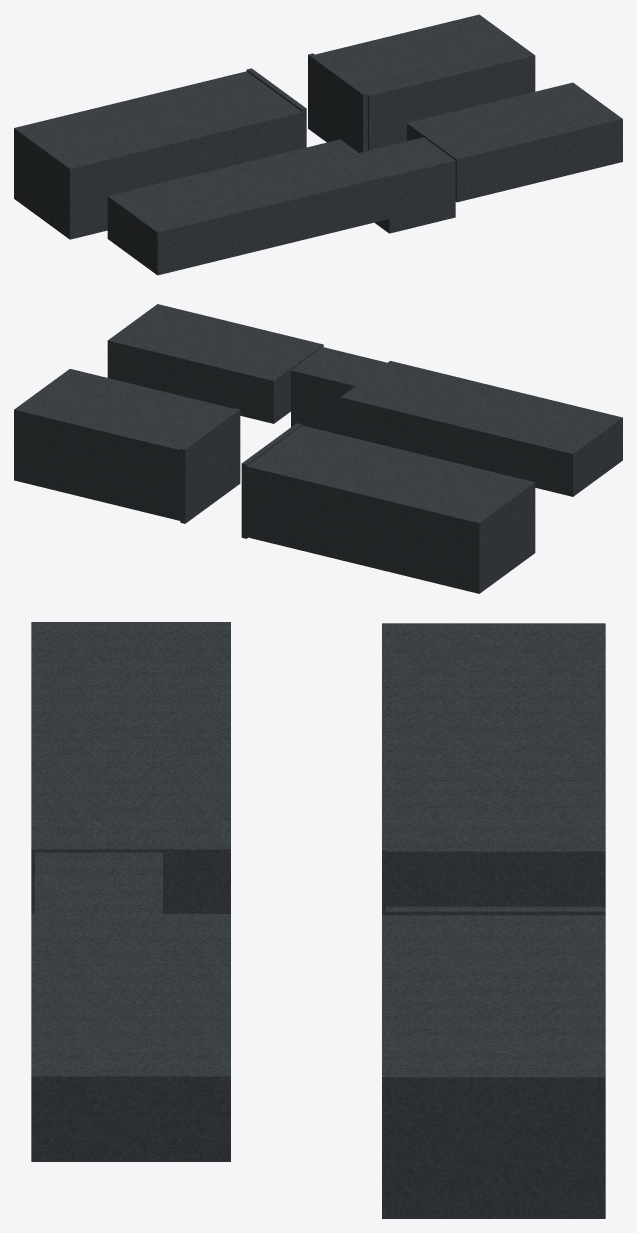
The model's file is PROJECT_Z_Kitchen_Cabinet_Collision_Helpers.glb.
3 renders of one model, top to bottom at view 1: azimuth 30°, elevation 25°; view 2: azimuth 150°, elevation 25°; view 3: azimuth 270°, elevation 25°, orthographic. The views are drawn at different scales.
Visible parts, largest first — view 1: UCX_COLLISION_Base_StorageL, UCX_COLLISION_Base_StorageR, UCX_COLLISION_Upper_StorageR, UCX_COLLISION_Upper_Sink, UCX_COLLISION_Base_Sink, UCX_COLLISION_Upper_StorageL, UCX_COLLISION_Upper_Drawers, UCX_COLLISION_Upper_End, UCX_COLLISION_Base_Drawers, UCX_COLLISION_Base_End, UCX_COLLISION_Extractor, UCX_COLLISION_StoveCheek_R (+1 smaller); view 2: UCX_COLLISION_Base_Sink, UCX_COLLISION_Base_StorageR, UCX_COLLISION_Base_StorageL, UCX_COLLISION_Upper_StorageR, UCX_COLLISION_Upper_Sink, UCX_COLLISION_Base_Drawers, UCX_COLLISION_Base_End, UCX_COLLISION_Upper_StorageL, UCX_COLLISION_Upper_End, UCX_COLLISION_Upper_Drawers, UCX_COLLISION_StoveCheek_R, UCX_COLLISION_Extractor (+1 smaller); view 3: UCX_COLLISION_Base_End, UCX_COLLISION_Upper_End, UCX_COLLISION_Base_Sink, UCX_COLLISION_Base_StorageR, UCX_COLLISION_Upper_Sink, UCX_COLLISION_Upper_StorageR, UCX_COLLISION_Upper_Drawers, UCX_COLLISION_Base_StorageL, UCX_COLLISION_Base_Drawers, UCX_COLLISION_StoveCheek_L, UCX_COLLISION_Upper_StorageL, UCX_COLLISION_Extractor (+1 smaller).
Part boxes in pixels (x1=…): UCX_COLLISION_Base_StorageL: x1=14, y1=112, x2=136, y2=239; UCX_COLLISION_Base_StorageR: x1=315, y1=30, x2=468, y2=150; UCX_COLLISION_Upper_StorageR: x1=407, y1=99, x2=556, y2=202; UCX_COLLISION_Upper_Sink: x1=174, y1=155, x2=323, y2=259; UCX_COLLISION_Base_Sink: x1=80, y1=87, x2=236, y2=188; UCX_COLLISION_Upper_StorageL: x1=107, y1=180, x2=223, y2=275; UCX_COLLISION_Upper_Drawers: x1=274, y1=139, x2=390, y2=234; UCX_COLLISION_Upper_End: x1=507, y1=82, x2=622, y2=177; UCX_COLLISION_Base_Drawers: x1=180, y1=71, x2=302, y2=164; UCX_COLLISION_Base_End: x1=413, y1=14, x2=535, y2=107; UCX_COLLISION_Extractor: x1=359, y1=137, x2=455, y2=233; UCX_COLLISION_StoveCheek_R: x1=308, y1=53, x2=367, y2=152; UCX_COLLISION_Base_Sink: x1=313, y1=441, x2=468, y2=577; UCX_COLLISION_Base_StorageR: x1=80, y1=385, x2=233, y2=520; UCX_COLLISION_Base_StorageL: x1=413, y1=466, x2=535, y2=593; UCX_COLLISION_Upper_StorageR: x1=174, y1=320, x2=323, y2=423; UCX_COLLISION_Upper_Sink: x1=407, y1=377, x2=555, y2=474; UCX_COLLISION_Base_Drawers: x1=246, y1=425, x2=368, y2=553; UCX_COLLISION_Base_End: x1=14, y1=369, x2=135, y2=496; UCX_COLLISION_Upper_StorageL: x1=506, y1=401, x2=622, y2=496; UCX_COLLISION_Upper_End: x1=107, y1=304, x2=223, y2=393; UCX_COLLISION_Upper_Drawers: x1=340, y1=361, x2=456, y2=450; UCX_COLLISION_StoveCheek_R: x1=180, y1=408, x2=240, y2=523; UCX_COLLISION_Extractor: x1=291, y1=347, x2=387, y2=434; UCX_COLLISION_Base_End: x1=382, y1=1012, x2=605, y2=1218; UCX_COLLISION_Upper_End: x1=31, y1=1011, x2=230, y2=1161; UCX_COLLISION_Base_Sink: x1=382, y1=688, x2=605, y2=785; UCX_COLLISION_Base_StorageR: x1=382, y1=915, x2=605, y2=1012; UCX_COLLISION_Upper_Sink: x1=31, y1=687, x2=230, y2=784; UCX_COLLISION_Upper_StorageR: x1=31, y1=914, x2=230, y2=1011; UCX_COLLISION_Upper_Drawers: x1=31, y1=784, x2=230, y2=913; UCX_COLLISION_Base_StorageL: x1=382, y1=623, x2=605, y2=687; UCX_COLLISION_Base_Drawers: x1=382, y1=785, x2=605, y2=915; UCX_COLLISION_StoveCheek_L: x1=385, y1=847, x2=605, y2=906; UCX_COLLISION_Upper_StorageL: x1=31, y1=622, x2=230, y2=686; UCX_COLLISION_Extractor: x1=35, y1=852, x2=162, y2=913.
Bounding box in the file's own units: 4.2 × 0.64 × 2.24.
Materials: 1 (1 with a texture image).
